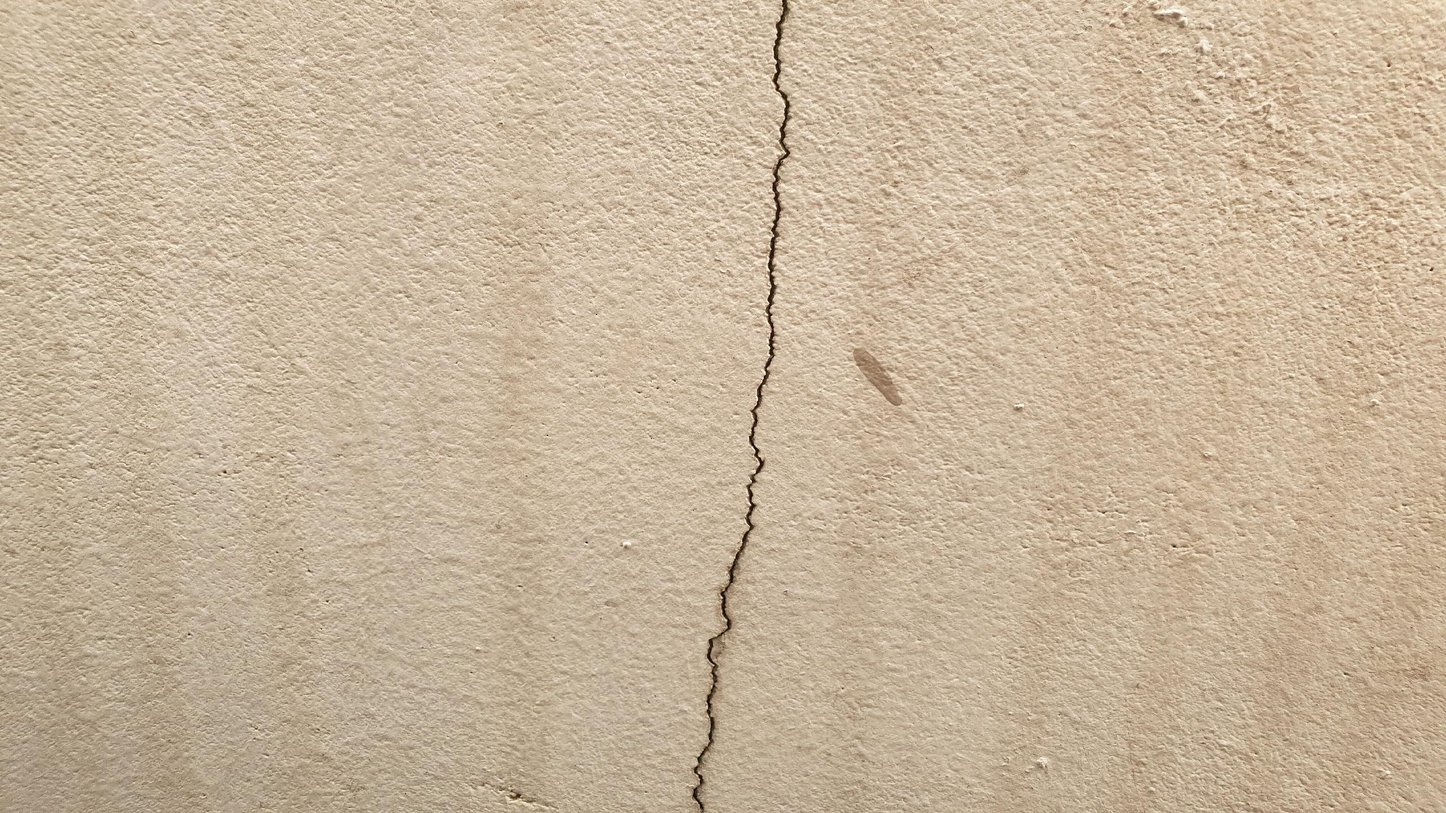crack: (691, 0, 792, 809)
